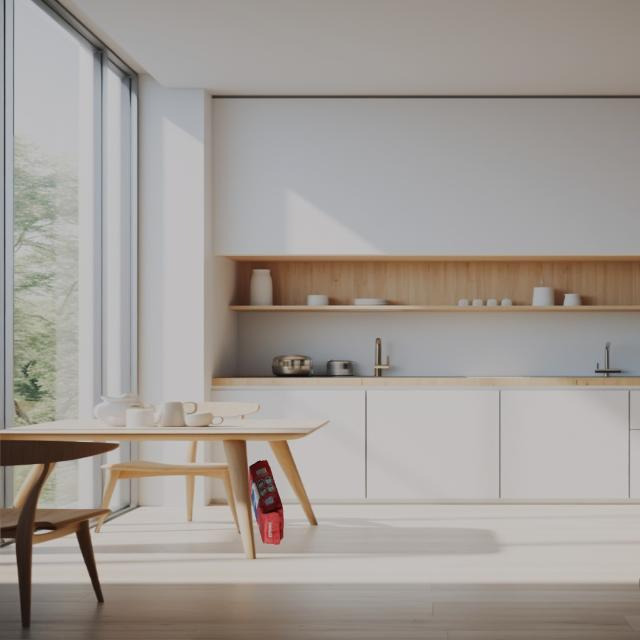mate bag: (249, 455, 284, 547)
